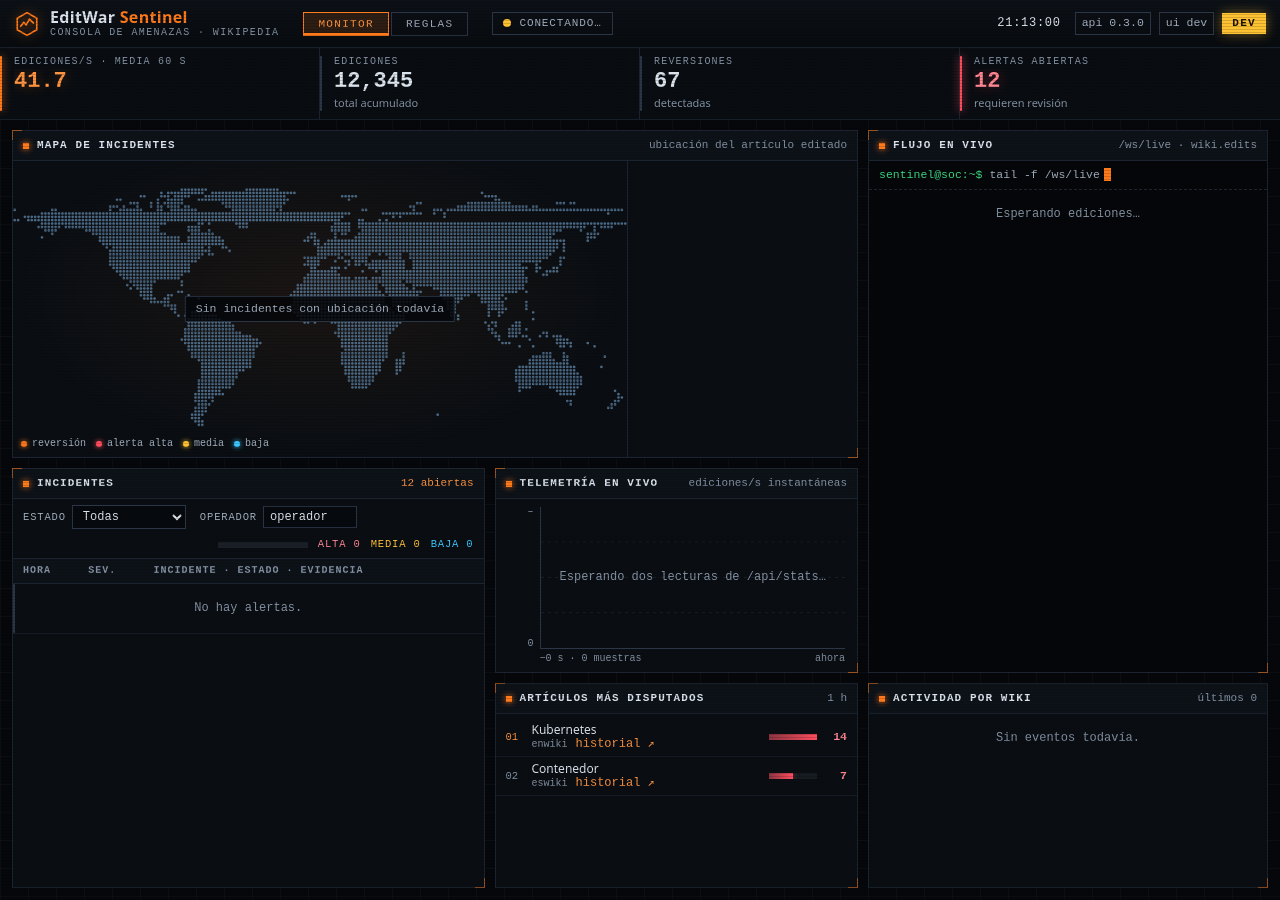
Test: App › switches to the Reglas view and back
Click the tab "Reglas" at (430, 24), box [391,12,468,36]
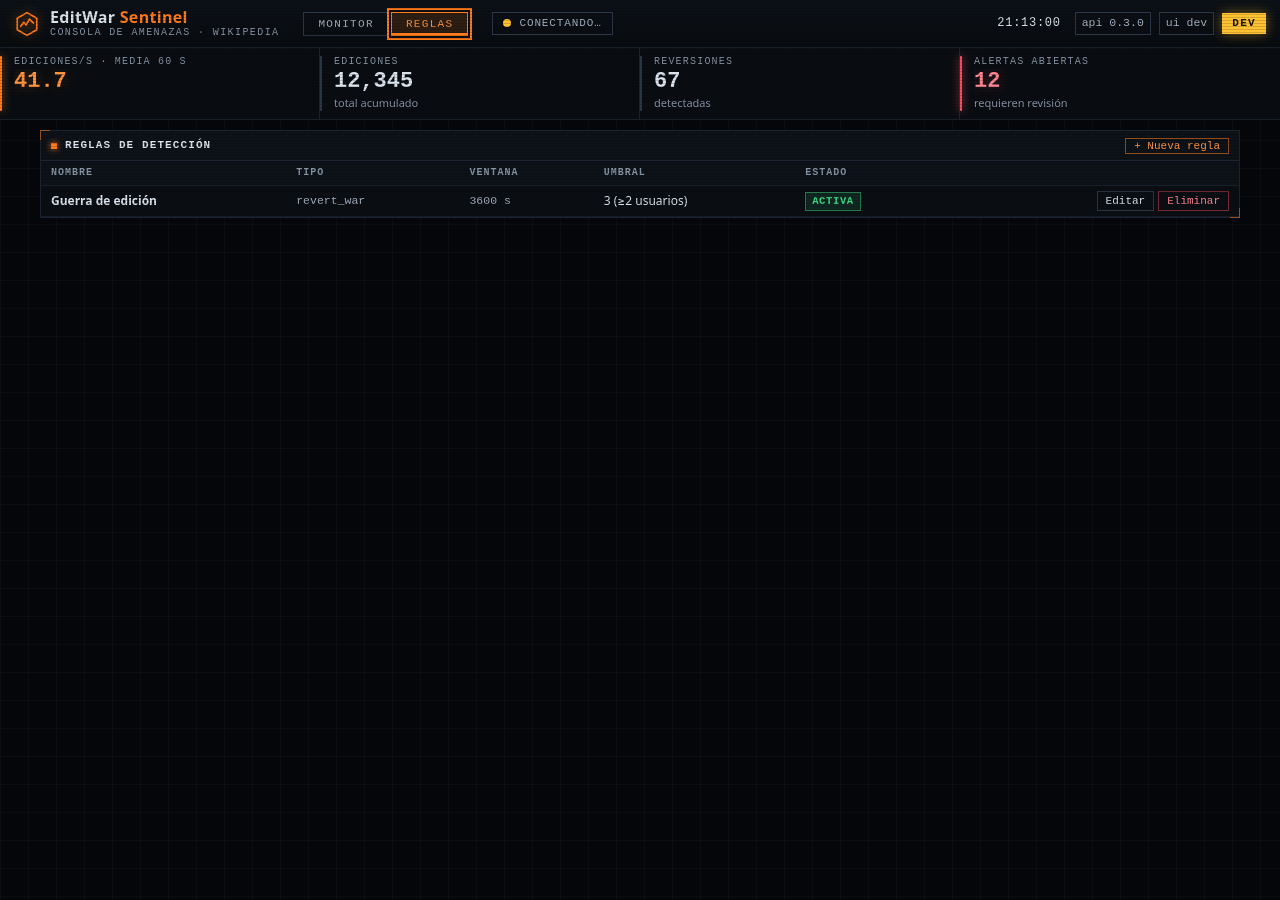
Expected: the panel "Reglas" is shown, [40,130,1240,218]
Expected: the text "Guerra de edición" is shown, [41,186,286,217]
Expected: the heading "Mapa de incidentes" is gone
Click the tab "Monitor" at (346, 24), box [303,12,389,36]
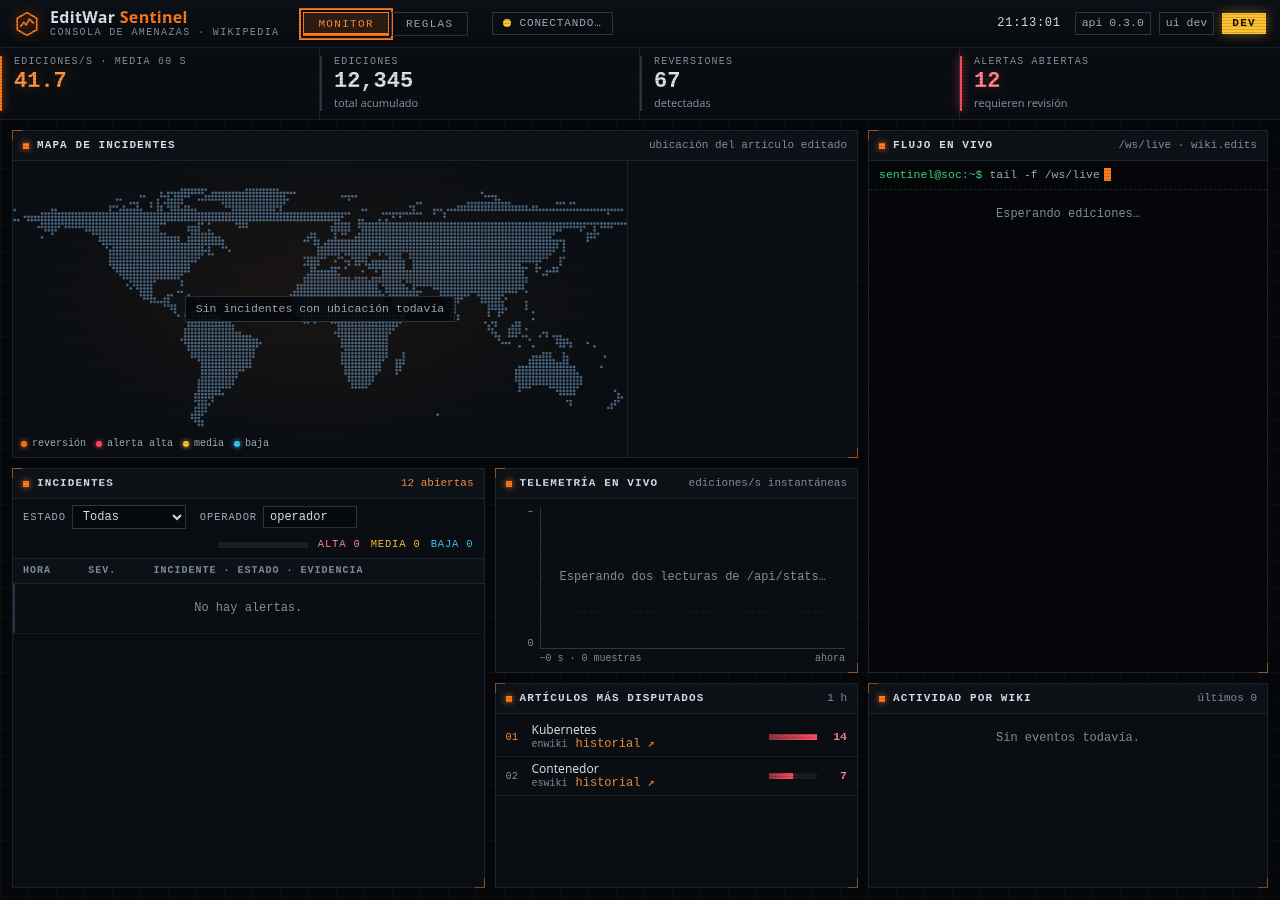
Expected: the heading "Mapa de incidentes" is shown, [23,138,176,154]
